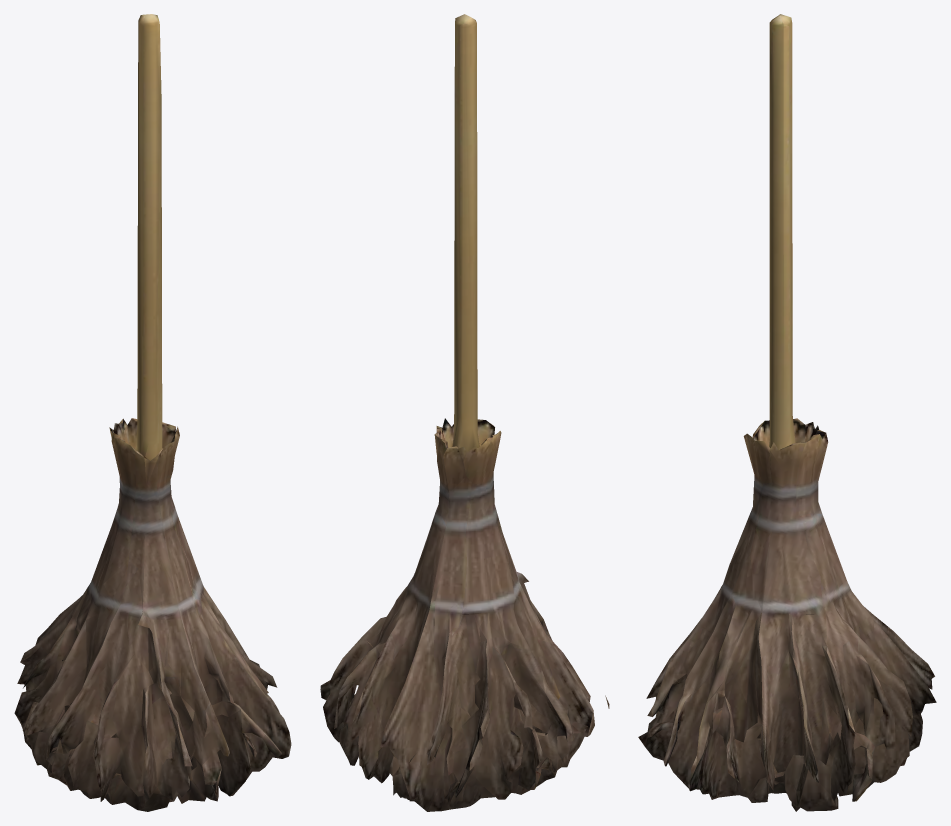
File: broom.glb
3 views of the same model, side by side, from view 1: azimuth 30°, elevation 25°; view 2: azimuth 150°, elevation 25°; view 3: azimuth 270°, elevation 25° (orthographic).
Visible parts, largest first — view 1: geometry_0; view 2: geometry_0; view 3: geometry_0.
Boxes of the visible parts, bbox=[...] form: geometry_0: bbox=[14, 14, 291, 811]; geometry_0: bbox=[320, 14, 609, 811]; geometry_0: bbox=[638, 14, 936, 811].
Size of the model in its own units: 0.4515 by 1.32 by 0.4714.
Materials: 1 (1 with a texture image).
